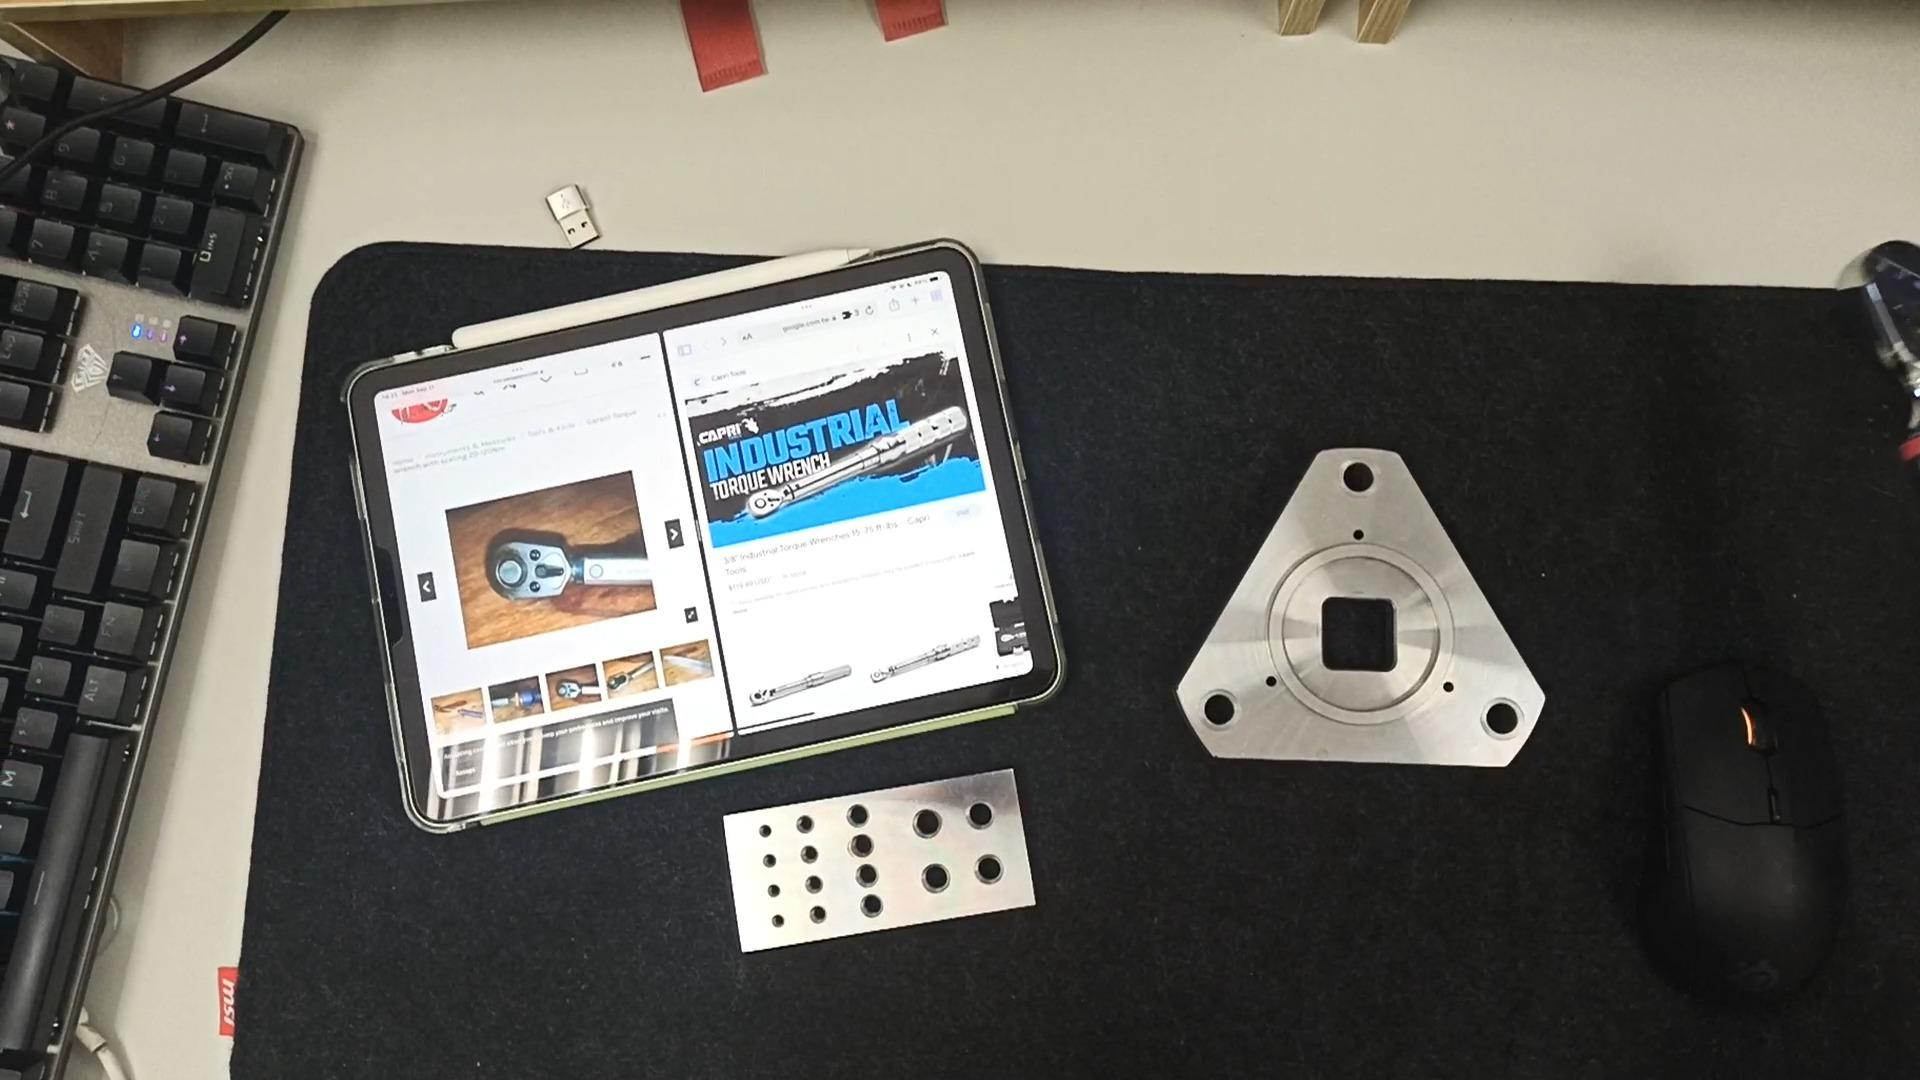Tool: (488, 533, 575, 604), (746, 484, 794, 524)
hole: (1468, 700, 1531, 750), (1328, 462, 1393, 506), (1183, 694, 1244, 738), (952, 853, 1011, 891), (945, 803, 1002, 839), (905, 861, 957, 897), (895, 808, 948, 843), (827, 804, 873, 833), (832, 837, 880, 865), (849, 897, 893, 924), (847, 862, 891, 889), (782, 814, 820, 836), (791, 877, 828, 898), (787, 847, 823, 868), (741, 822, 775, 841), (796, 910, 829, 930), (745, 855, 777, 873), (748, 882, 779, 901), (758, 915, 790, 932)
